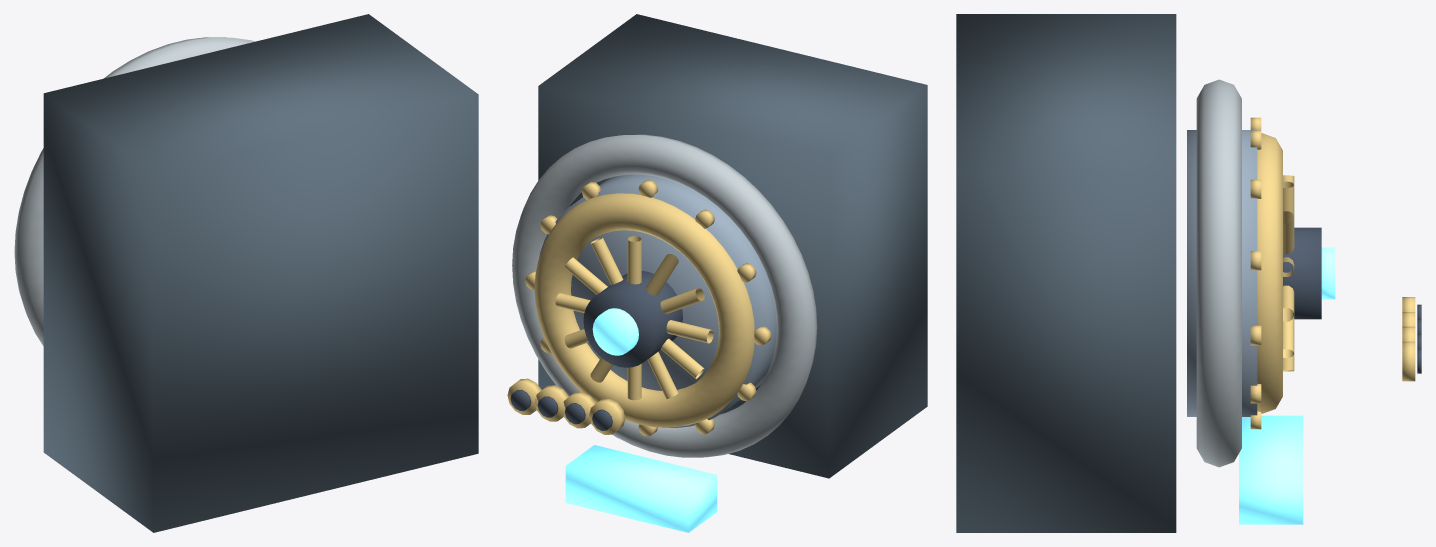
The model's file is L84_20_ReactionWheelZ_Fitted.fbx.
The picture shows the model from 3 angles, left to right: view 1: azimuth 30°, elevation 25°; view 2: azimuth 150°, elevation 25°; view 3: azimuth 270°, elevation 25°; orthographic projection. The views are drawn at different scales.
Parts seen in each view (by area): view 1: L84_ReactionWheelZ_Static__tint1C2933, L84_ReactionWheelZ_Static__tint91A3AD; view 2: L84_ReactionWheelZ_Static__tint1C2933, L84_ReactionWheelZ_Static__tint91A3AD, L84_ReactionWheelZ_ANIM_WHEEL_Z_ROTOR__tintF2B547, L84_ReactionWheelZ_ANIM_WHEEL_Z_ROTOR__tint59738F, L84_ReactionWheelZ_Static__tint38CCFC, L84_ReactionWheelZ_Static__tintF2B547, L84_ReactionWheelZ_ANIM_WHEEL_Z_ROTOR__tint131B26, L84_ReactionWheelZ_ANIM_WHEEL_Z_ROTOR__tint38CCFC, L84_ReactionWheelZ_Static__tint131B26; view 3: L84_ReactionWheelZ_Static__tint1C2933, L84_ReactionWheelZ_Static__tint91A3AD, L84_ReactionWheelZ_ANIM_WHEEL_Z_ROTOR__tintF2B547, L84_ReactionWheelZ_Static__tint38CCFC, L84_ReactionWheelZ_ANIM_WHEEL_Z_ROTOR__tint59738F, L84_ReactionWheelZ_ANIM_WHEEL_Z_ROTOR__tint131B26, L84_ReactionWheelZ_Static__tintF2B547, L84_ReactionWheelZ_ANIM_WHEEL_Z_ROTOR__tint38CCFC.
Part boxes in pixels (x1,y1,x2,y2): L84_ReactionWheelZ_Static__tint1C2933: [43, 14, 478, 532]; L84_ReactionWheelZ_Static__tint91A3AD: [14, 37, 255, 345]; L84_ReactionWheelZ_Static__tint1C2933: [538, 14, 927, 478]; L84_ReactionWheelZ_Static__tint91A3AD: [512, 134, 817, 457]; L84_ReactionWheelZ_ANIM_WHEEL_Z_ROTOR__tintF2B547: [534, 193, 754, 427]; L84_ReactionWheelZ_ANIM_WHEEL_Z_ROTOR__tint59738F: [539, 174, 776, 427]; L84_ReactionWheelZ_Static__tint38CCFC: [565, 445, 717, 532]; L84_ReactionWheelZ_Static__tintF2B547: [507, 179, 771, 436]; L84_ReactionWheelZ_ANIM_WHEEL_Z_ROTOR__tint131B26: [583, 271, 682, 367]; L84_ReactionWheelZ_ANIM_WHEEL_Z_ROTOR__tint38CCFC: [592, 308, 638, 355]; L84_ReactionWheelZ_Static__tint131B26: [510, 389, 612, 430]; L84_ReactionWheelZ_Static__tint1C2933: [956, 14, 1176, 532]; L84_ReactionWheelZ_Static__tint91A3AD: [1196, 79, 1241, 467]; L84_ReactionWheelZ_ANIM_WHEEL_Z_ROTOR__tintF2B547: [1257, 133, 1294, 413]; L84_ReactionWheelZ_Static__tint38CCFC: [1239, 415, 1303, 524]; L84_ReactionWheelZ_ANIM_WHEEL_Z_ROTOR__tint59738F: [1187, 130, 1257, 416]; L84_ReactionWheelZ_ANIM_WHEEL_Z_ROTOR__tint131B26: [1283, 227, 1321, 319]; L84_ReactionWheelZ_Static__tintF2B547: [1250, 117, 1415, 429]; L84_ReactionWheelZ_ANIM_WHEEL_Z_ROTOR__tint38CCFC: [1321, 247, 1335, 299].
Bounding box in the file's own units: 12.19 × 13.78 × 14.61.
